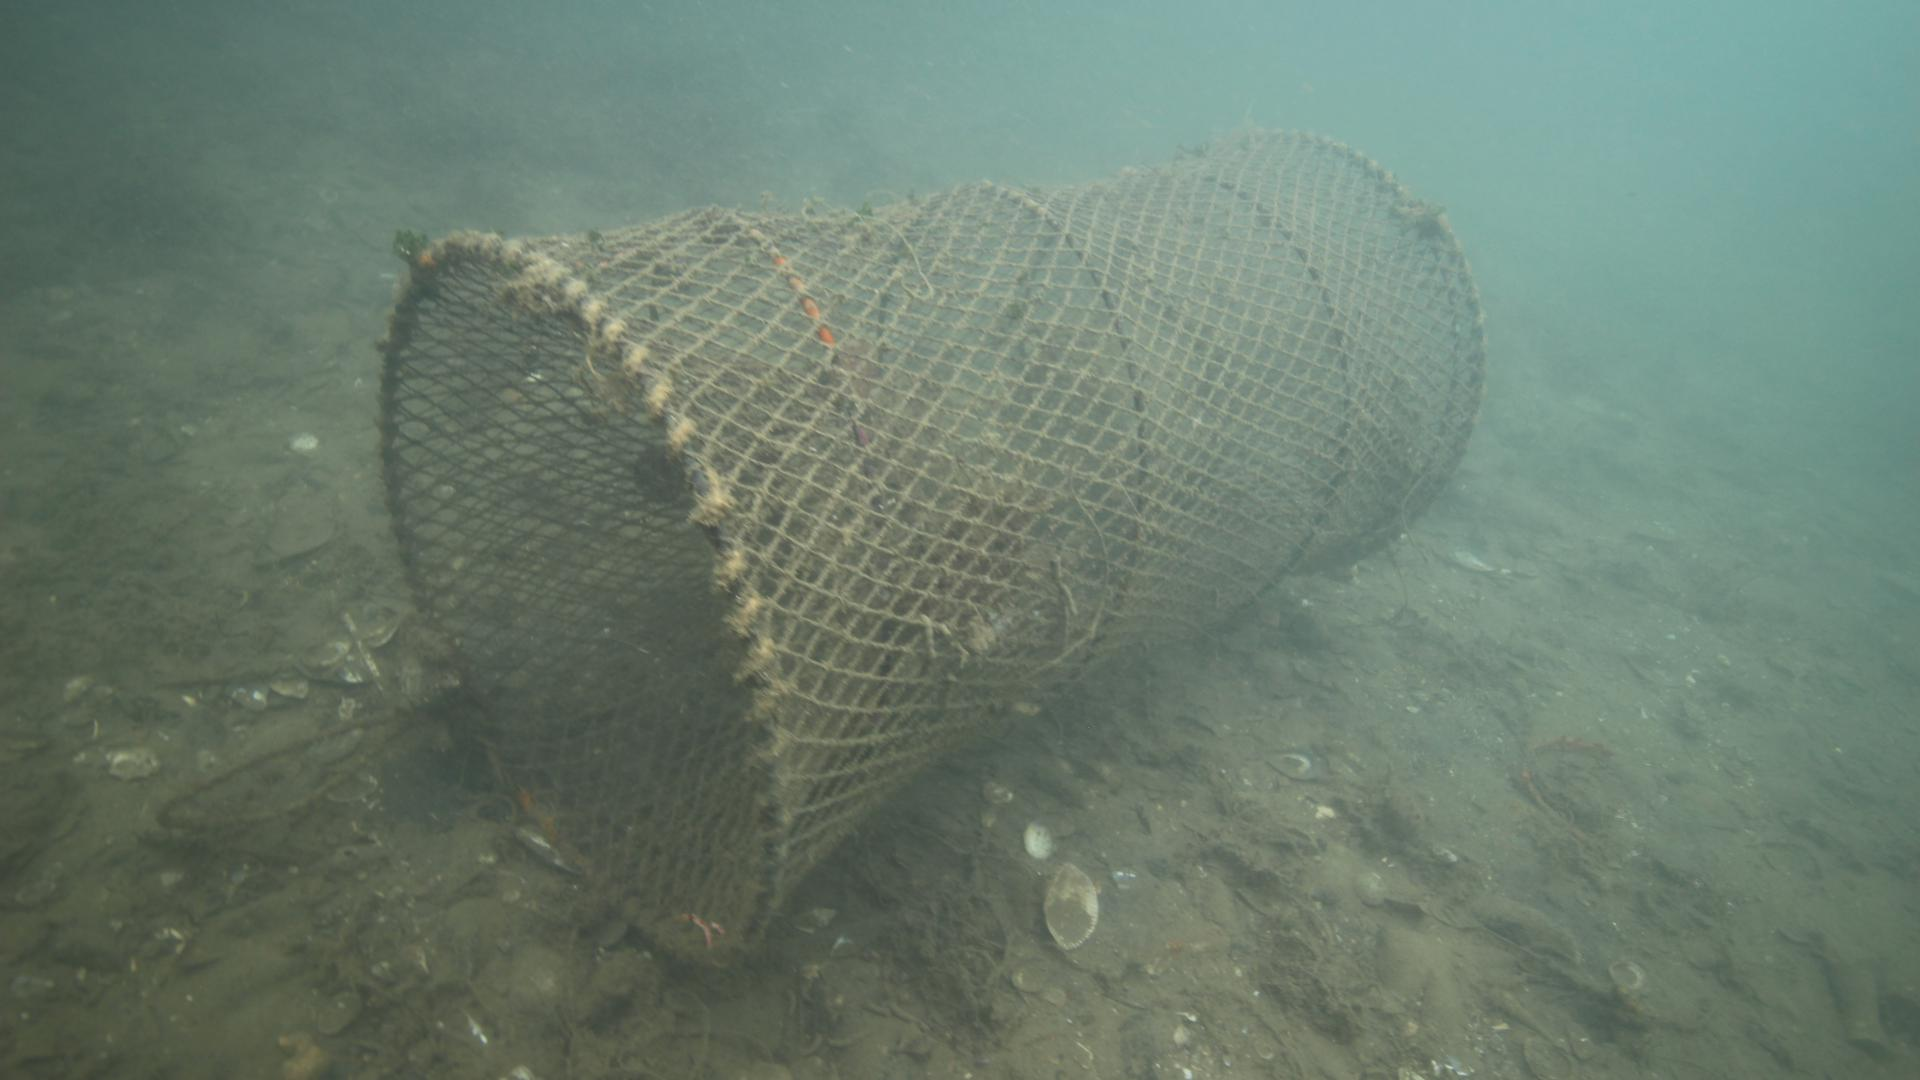spring fish trap: (375, 123, 1487, 971)
